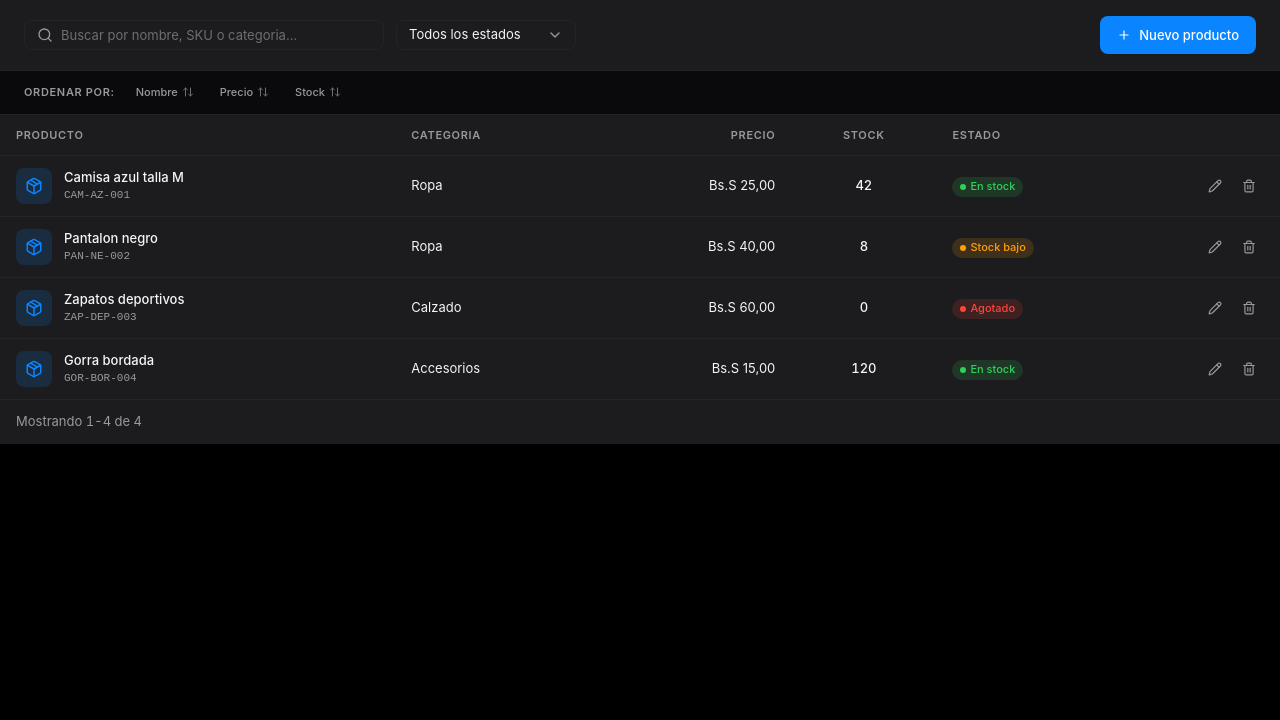
Test: ProductsList › opens confirm dialog when clicking delete button
Expected: the text "Camisa azul talla M" is shown, [64,169,184,185]
Click the button named "Eliminar Camisa azul talla M": (1249, 186) [1234,171,1264,201]
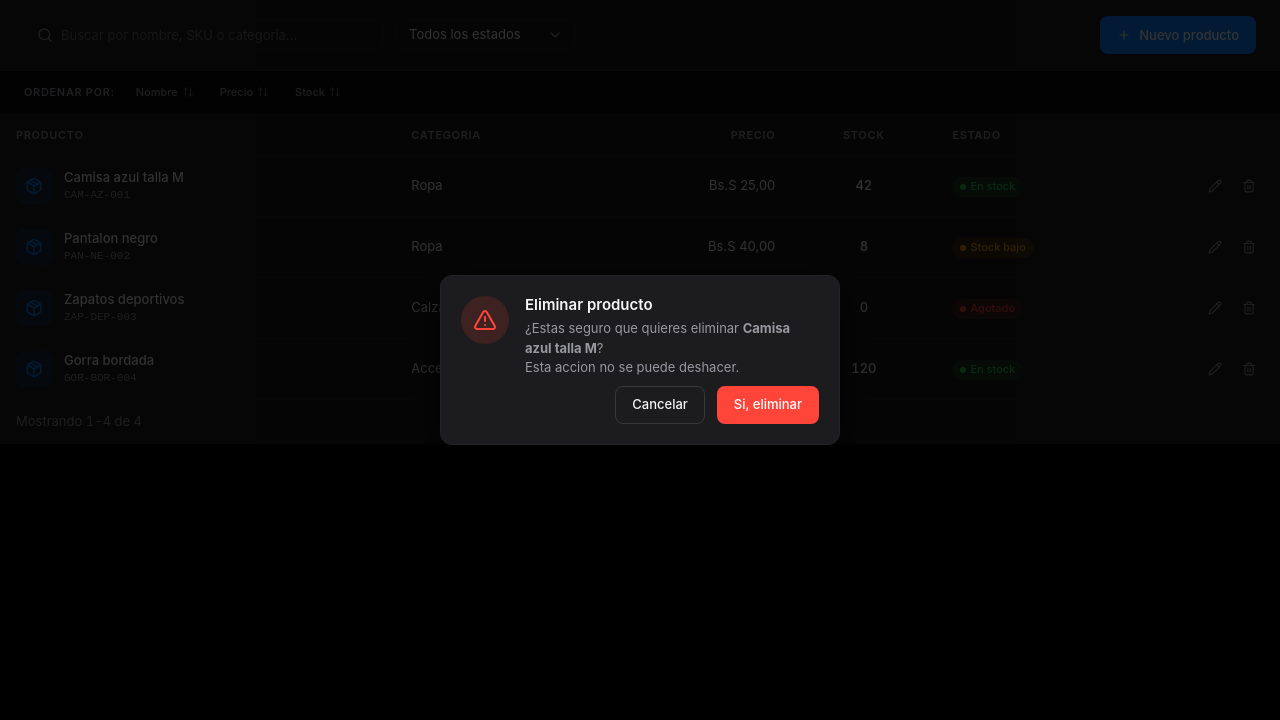
Expected: the heading "Eliminar producto" is shown, [525,295,653,314]
